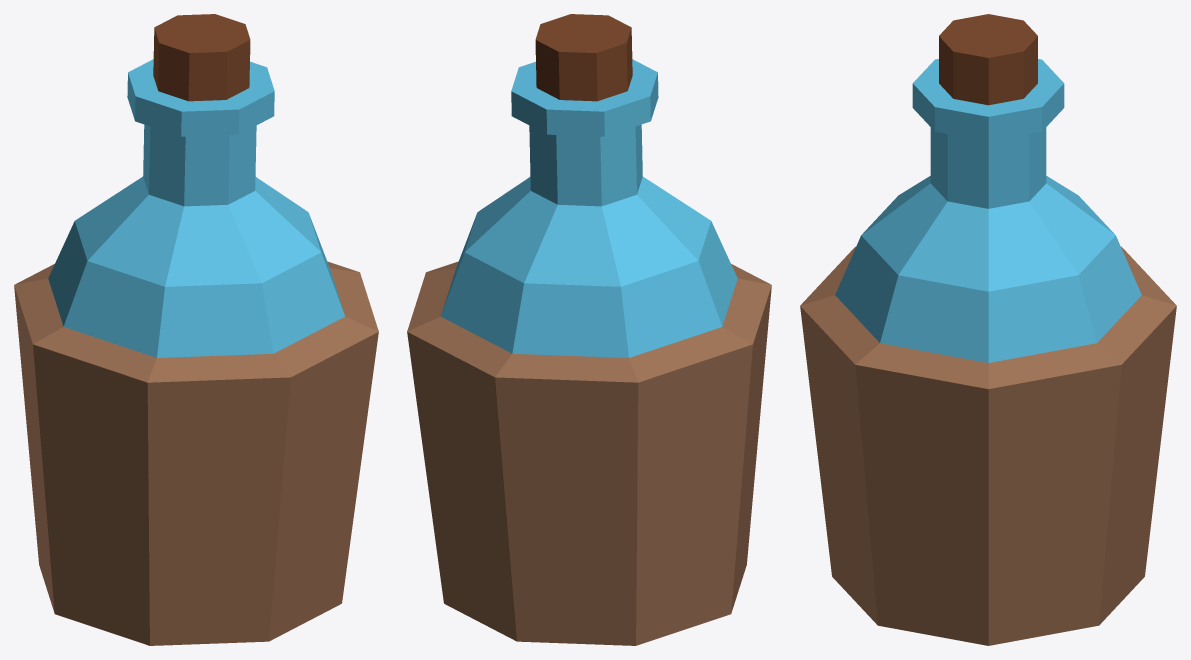
File: bottle.fbx
The picture shows the model from 3 angles, left to right: view 1: azimuth 30°, elevation 25°; view 2: azimuth 150°, elevation 25°; view 3: azimuth 270°, elevation 25°; orthographic projection.
Visible parts, largest first — view 1: _bottle; view 2: _bottle; view 3: _bottle.
Boxes of the visible parts, x1,y1,x2,y2 form: _bottle: (14,14,378,645); _bottle: (407,14,771,645); _bottle: (800,14,1176,645).
Size of the model in its own units: 45.17 by 72.85 by 45.18.
